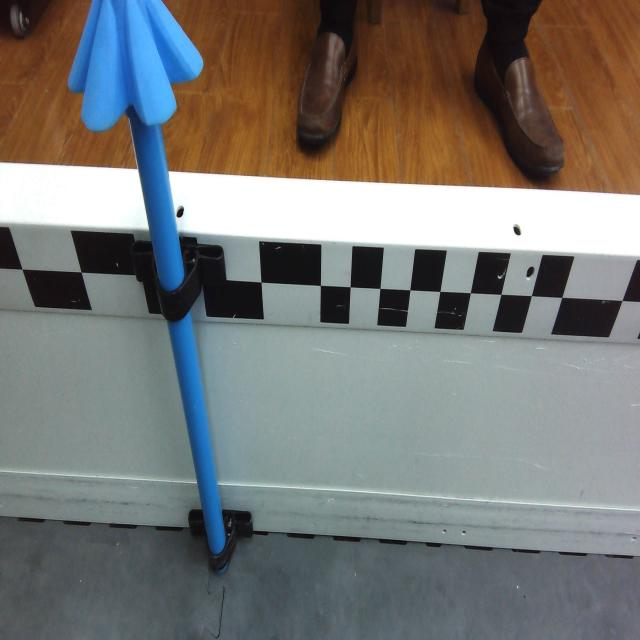zblue-Stake-Head: (67, 0, 204, 131)
